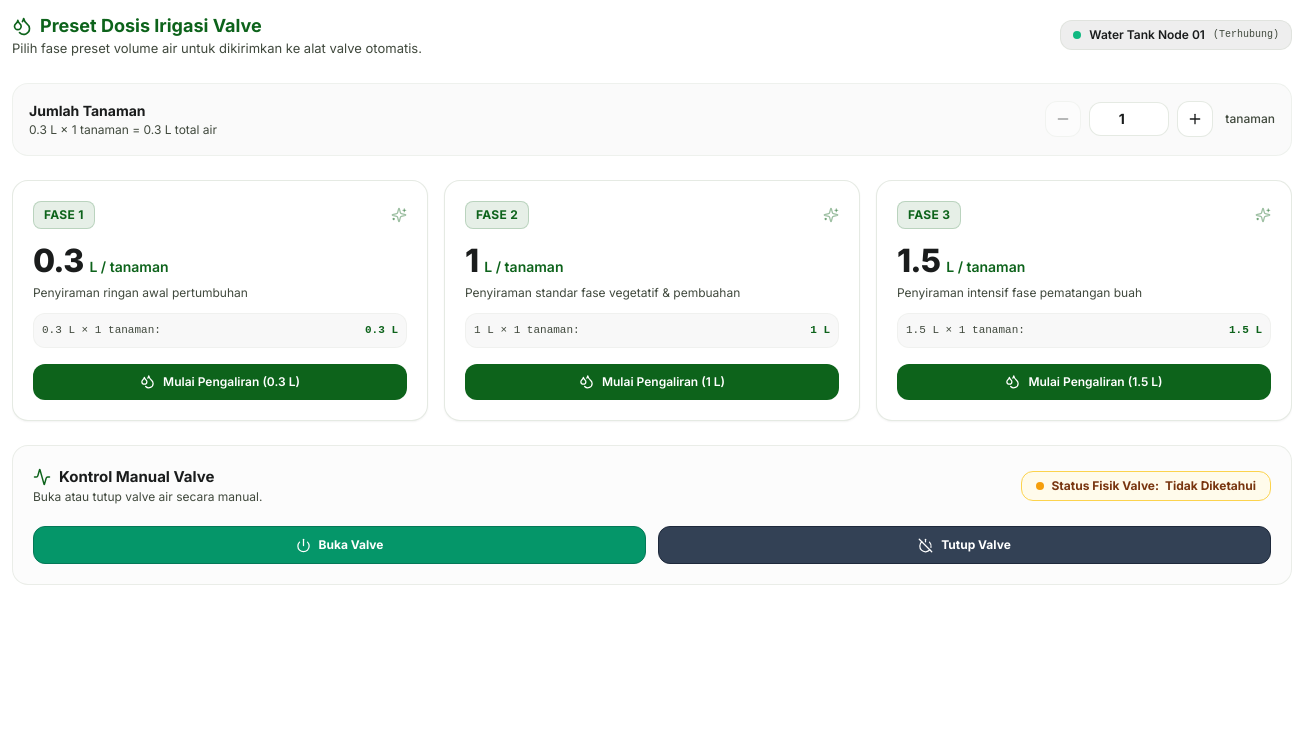
Scenario: FaucetPresetSelector › updates live total calculation preview when plantCount increases or decreases
Check: the number field with test id "input-plant-count" holds "1", box [1089,102,1169,136]
Check: the text "0.3 L × 1 tanaman = 0.3 L total air" is shown, box [29,120,217,138]
Click the button with test id "btn-increment-plant".
click(1195, 119)  # box [1177,101,1213,137]
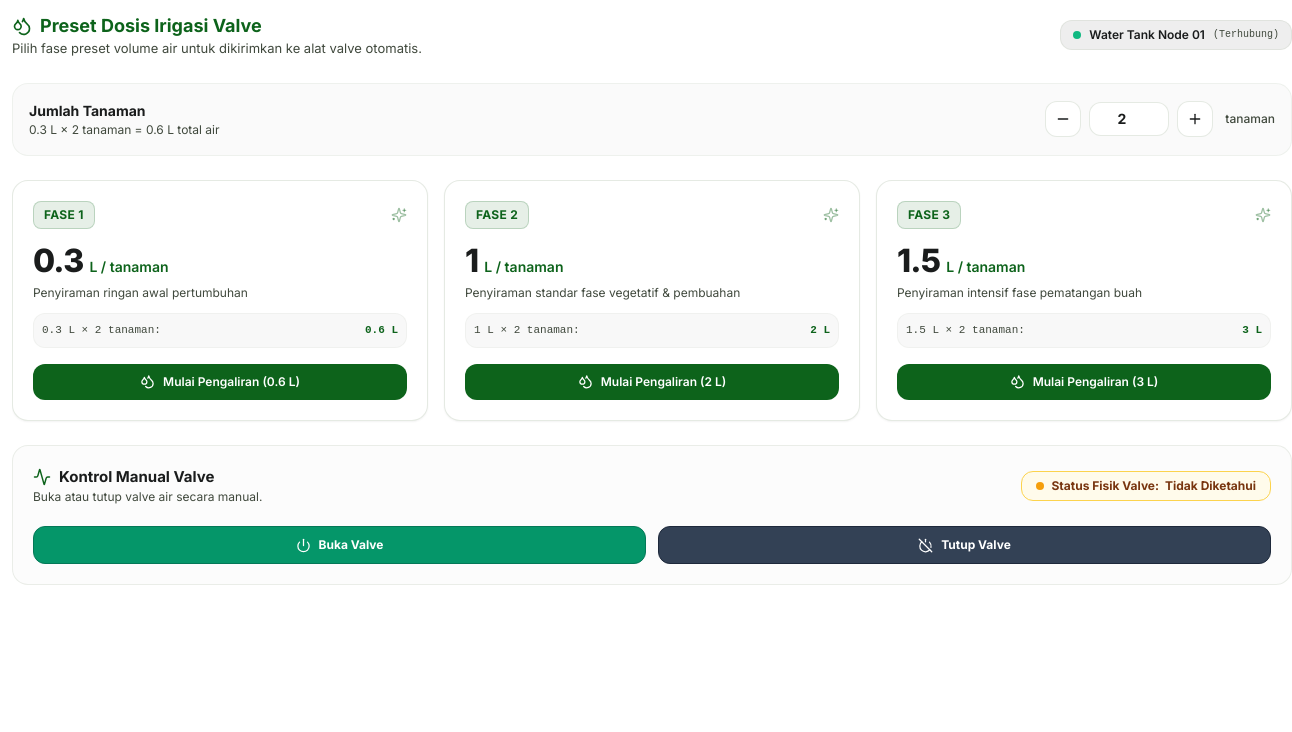
Check: the number field with test id "input-plant-count" holds "2", box [1089,102,1169,136]
Check: the text "0.3 L × 2 tanaman = 0.6 L total air" is shown, box [29,120,220,138]
Note: Increment again to 3
Click the button with test id "btn-increment-plant".
click(1195, 119)  # box [1177,101,1213,137]
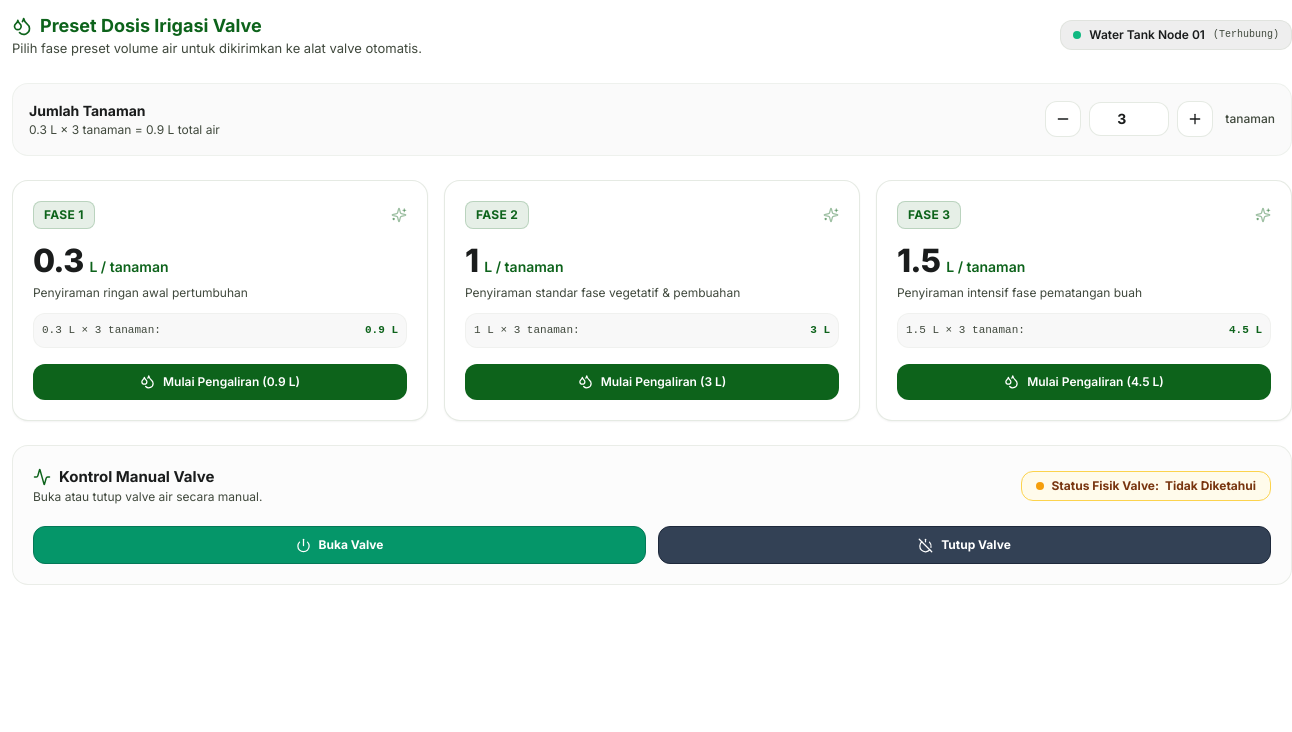
Check: the number field with test id "input-plant-count" holds "3", box [1089,102,1169,136]
Check: the text "0.3 L × 3 tanaman = 0.9 L total air" is shown, box [29,120,220,138]
Note: Decrement back to 2
Click the button with test id "btn-decrement-plant".
click(1063, 119)  # box [1045,101,1081,137]
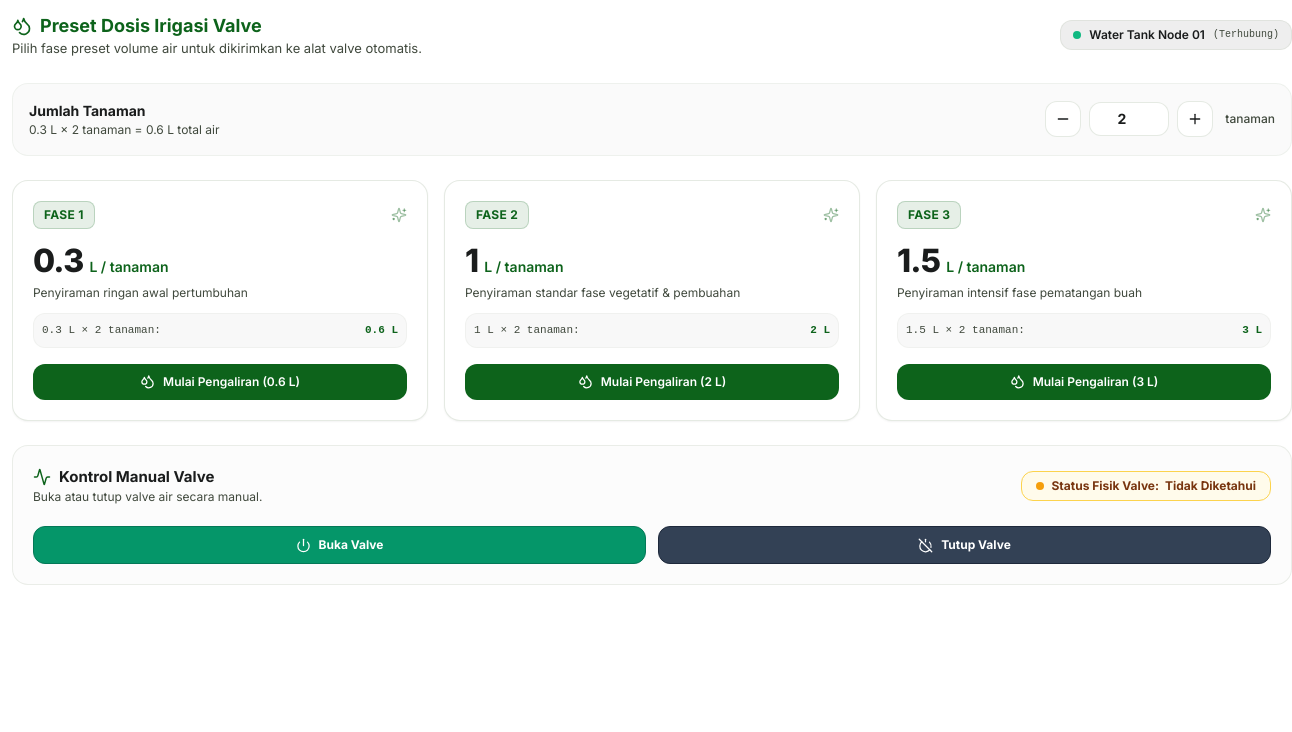
Check: the number field with test id "input-plant-count" holds "2", box [1089,102,1169,136]
